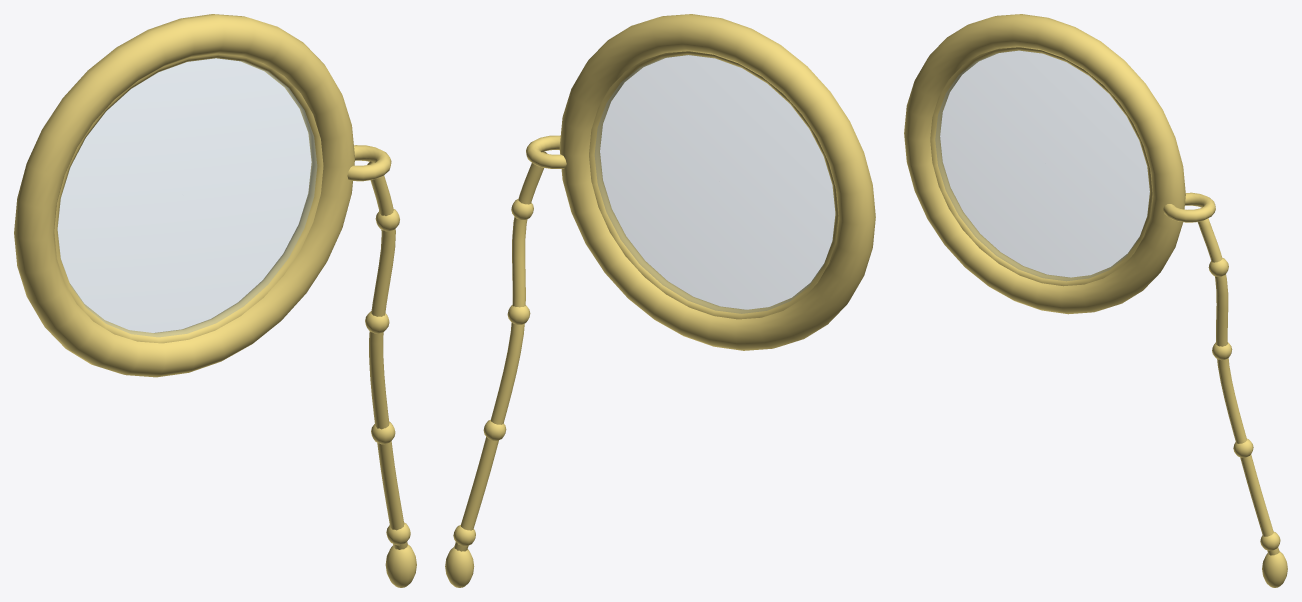
Rendered from monoculo.glb.
3 views of the same model, side by side, from view 1: azimuth 30°, elevation 25°; view 2: azimuth 150°, elevation 25°; view 3: azimuth 330°, elevation 25° (orthographic). The views are drawn at different scales.
Parts seen in each view (by area): view 1: Monoculo; view 2: Monoculo; view 3: Monoculo.
Part boxes in pixels (<box>): Monoculo: <box>14,14,416,587</box>; Monoculo: <box>445,14,875,587</box>; Monoculo: <box>904,14,1287,587</box>.
Bounding box in the file's own units: 0.442 × 0.64 × 0.098.
